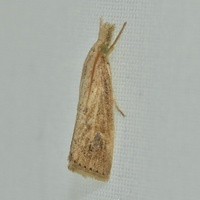insect: (68, 17, 125, 180)
